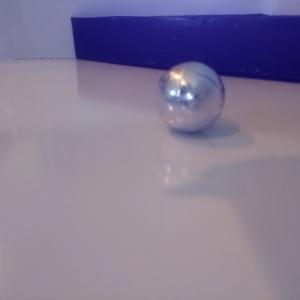zone: (70, 13, 300, 83)
